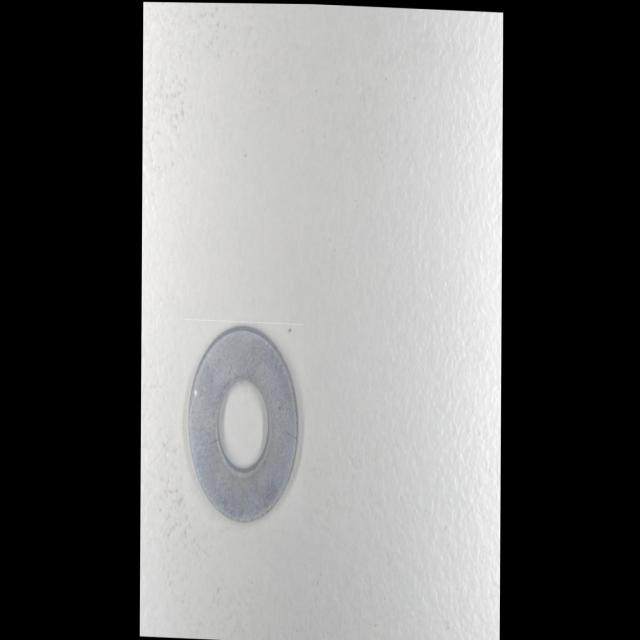washer: (183, 320, 302, 526)
